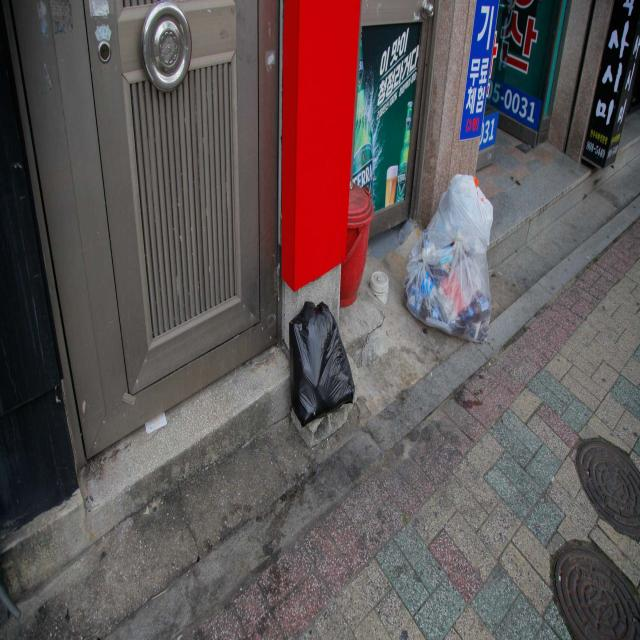garbage bag: (404, 170, 495, 348), (288, 298, 356, 428)
